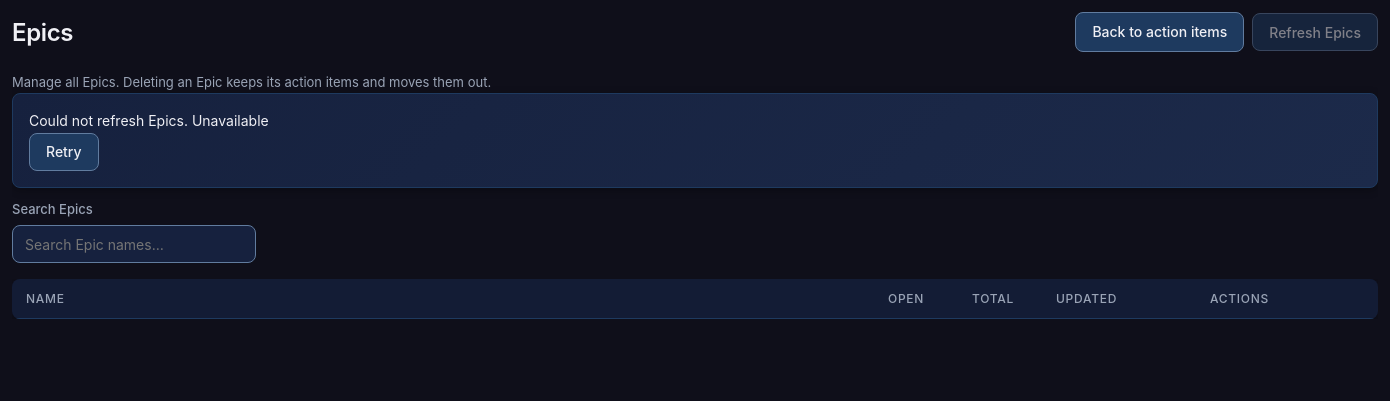
Test case: keeps stale catalog actions disabled after a refresh failure and recovers explicitly
Click the button "Retry".
click(64, 152)  # box [29,133,99,171]
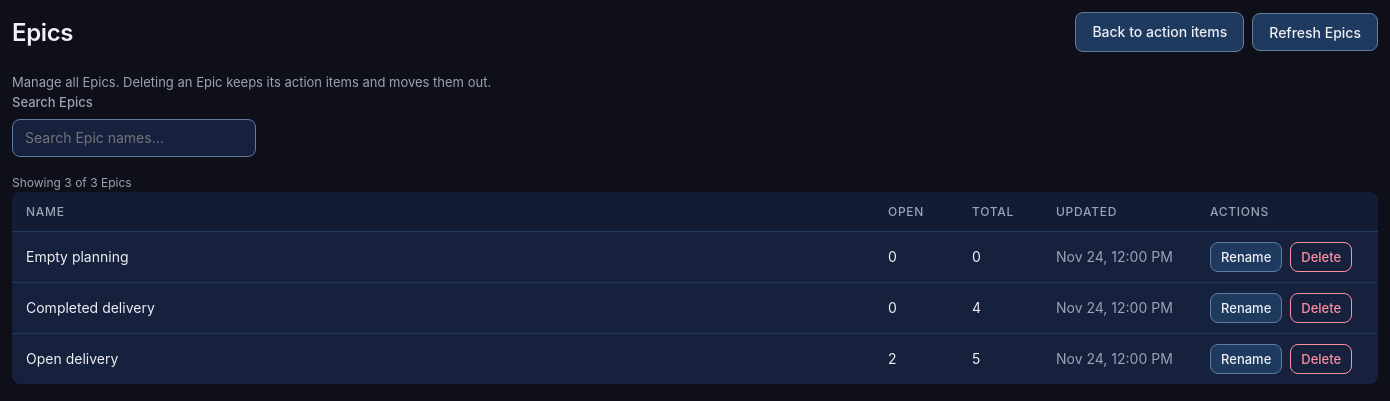
Check: the text "Empty planning" is shown, box [12,232,874,283]
Check: the button with aria-label "Delete Epic Empty planning" is enabled, box [1290,242,1352,272]
Check: the number of rows is 4, box [12,192,1378,232]; [12,232,1378,283]; [12,283,1378,334]; [12,334,1378,384]
